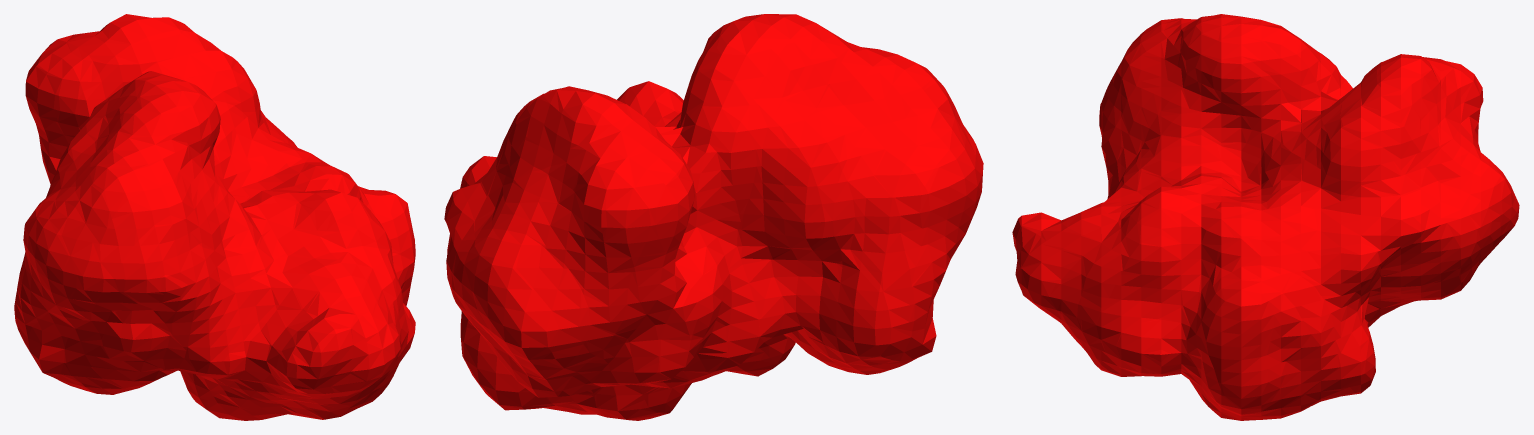
The model's file is trkA_coarse.dae.
The picture shows the model from 3 angles, left to right: view 1: azimuth 30°, elevation 25°; view 2: azimuth 150°, elevation 25°; view 3: azimuth 270°, elevation 25°; orthographic projection. The views are drawn at different scales.
Parts seen in each view (by area): view 1: trkA; view 2: trkA; view 3: trkA.
Part boxes in pixels (box(x1,y1,x2,y2)): trkA: box(14, 14, 415, 420); trkA: box(444, 14, 983, 420); trkA: box(1012, 14, 1519, 420).
Bounding box in the file's own units: 67.95 × 55.98 × 78.48.
